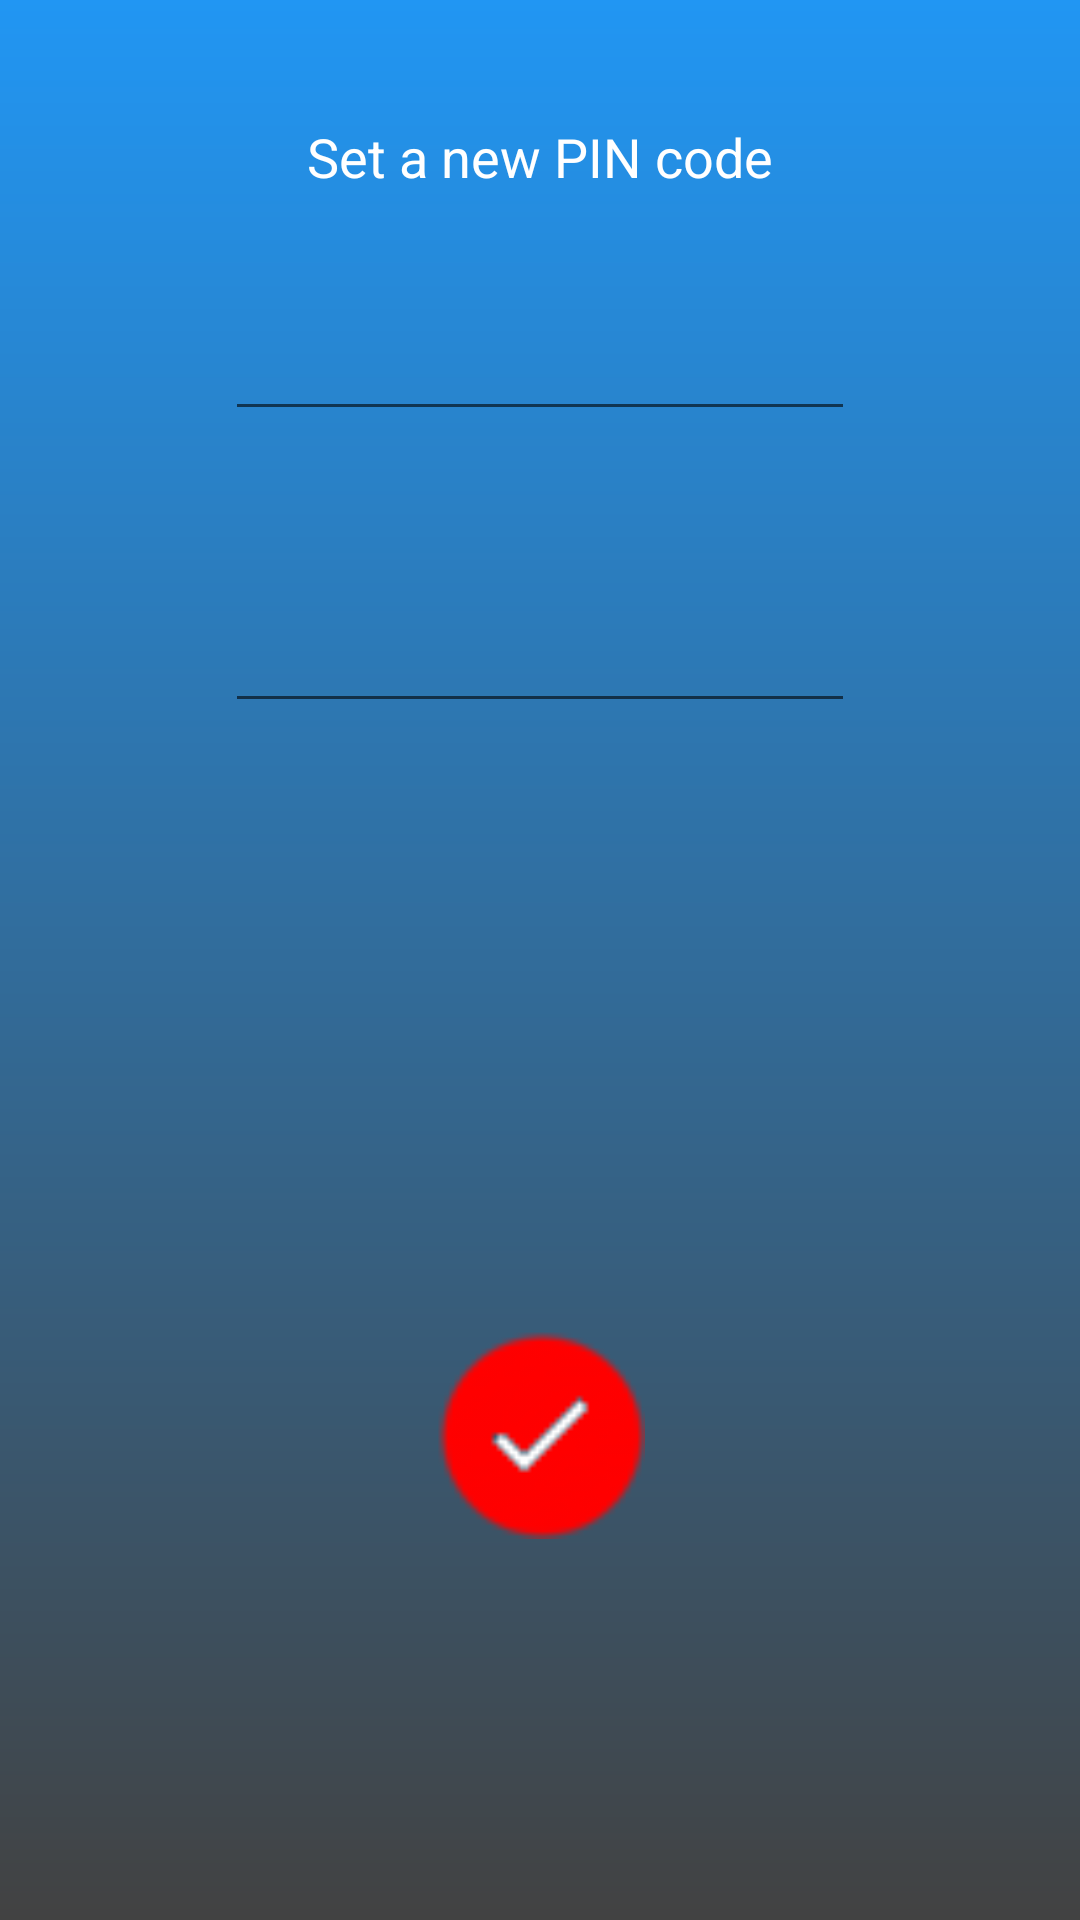

Where to tap for icons on this 1080w x 1920h app screen, as point (x, y):
done: point (542, 1436)
